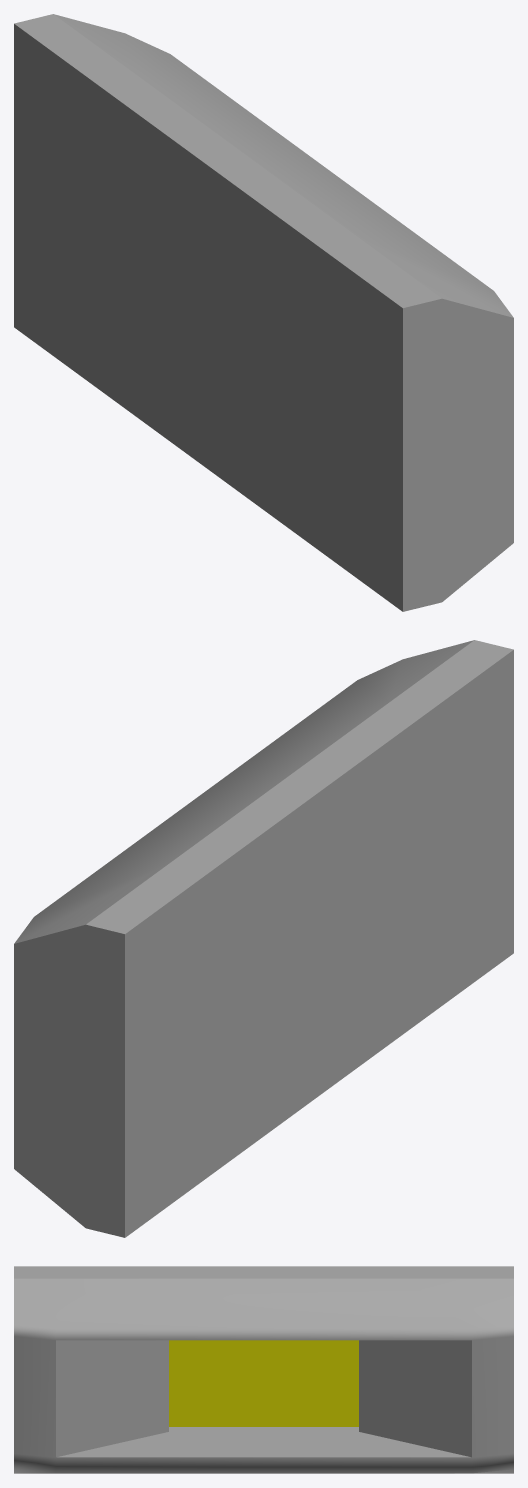
The model's file is Wall_light_curve.fbx.
3 views of the same model, one above another, from view 1: azimuth 30°, elevation 25°; view 2: azimuth 150°, elevation 25°; view 3: azimuth 270°, elevation 25° (orthographic). The views are drawn at different scales.
Parts seen in each view (by area): view 1: Wall_Light_Straight; view 2: Wall_Light_Straight; view 3: Wall_Light_Straight.
Boxes of the visible parts, x1=… form: Wall_Light_Straight: x1=14, y1=14, x2=513, y2=611; Wall_Light_Straight: x1=14, y1=640, x2=513, y2=1237; Wall_Light_Straight: x1=14, y1=1266, x2=513, y2=1473.
Bounding box in the file's own units: 0.1839 × 0.4309 × 1.
